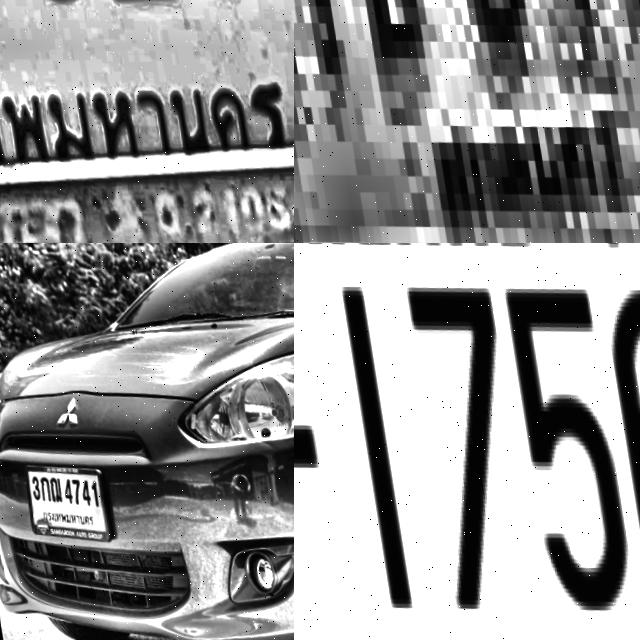license-plate: (294, 243, 640, 640), (294, 0, 640, 243), (0, 0, 294, 243), (16, 452, 106, 546)
